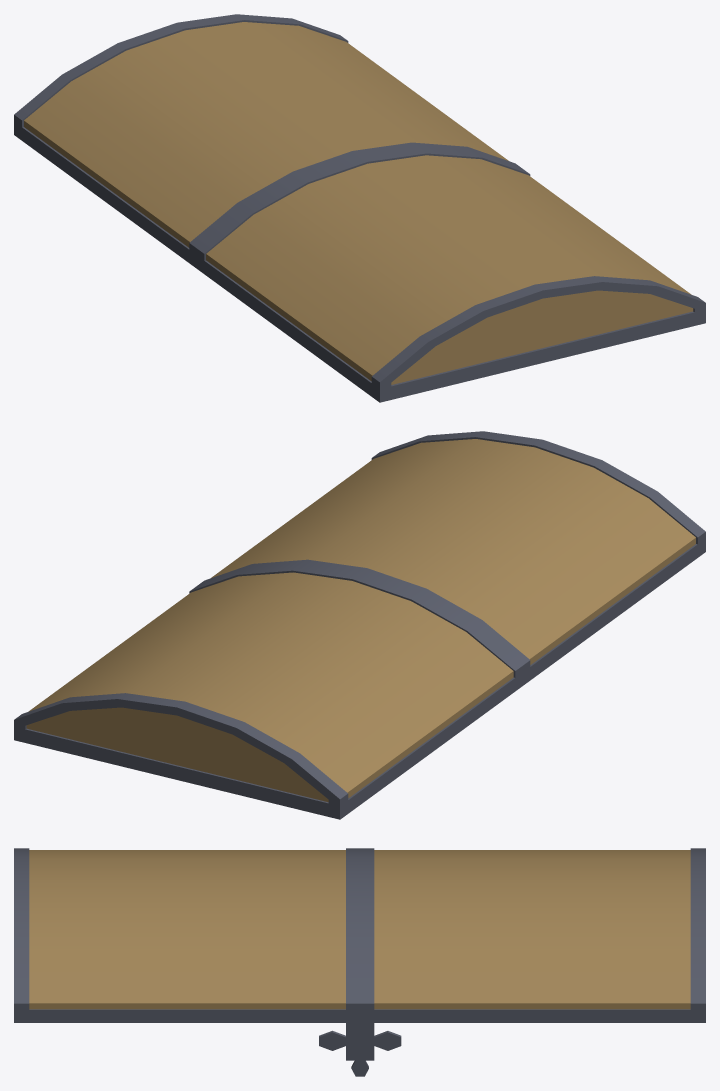
The model's file is coperchio_baule.fbx.
The picture shows the model from 3 angles, top to bottom: view 1: azimuth 30°, elevation 25°; view 2: azimuth 150°, elevation 25°; view 3: azimuth 270°, elevation 25°; orthographic projection. The views are drawn at different scales.
Parts seen in each view (by area): view 1: polySurface1994; view 2: polySurface1994; view 3: polySurface1994.
Part boxes in pixels (box(x1,y1,x2,y2)): polySurface1994: box(14, 14, 705, 402); polySurface1994: box(14, 431, 705, 819); polySurface1994: box(14, 848, 705, 1076).
Size of the model in its own units: 87.37 by 33.08 by 170.
